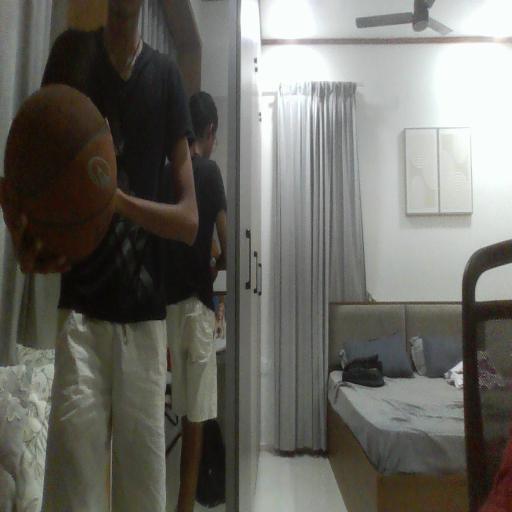basketball: (4, 84, 119, 276), (5, 84, 116, 263)
